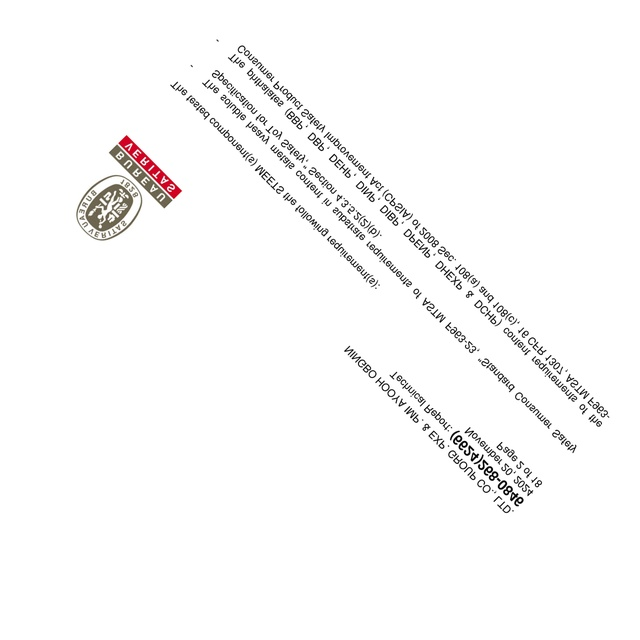bureau_veritas: (70, 129, 182, 242)
